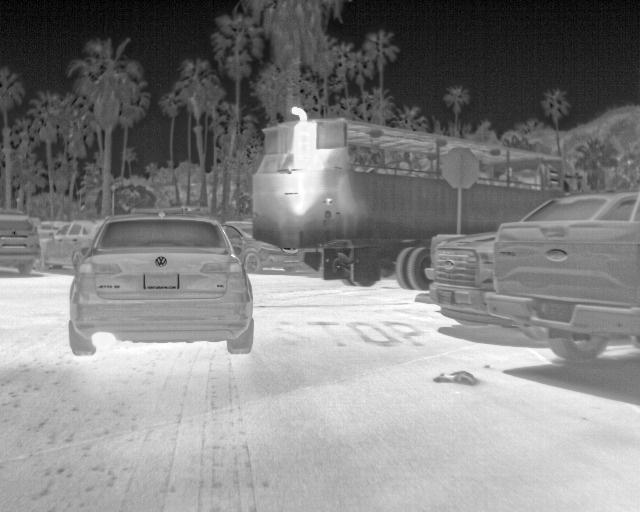bicycle: (72, 216, 255, 361), (495, 222, 639, 367), (419, 227, 497, 323), (38, 219, 102, 273), (520, 194, 634, 224), (0, 213, 39, 273)
